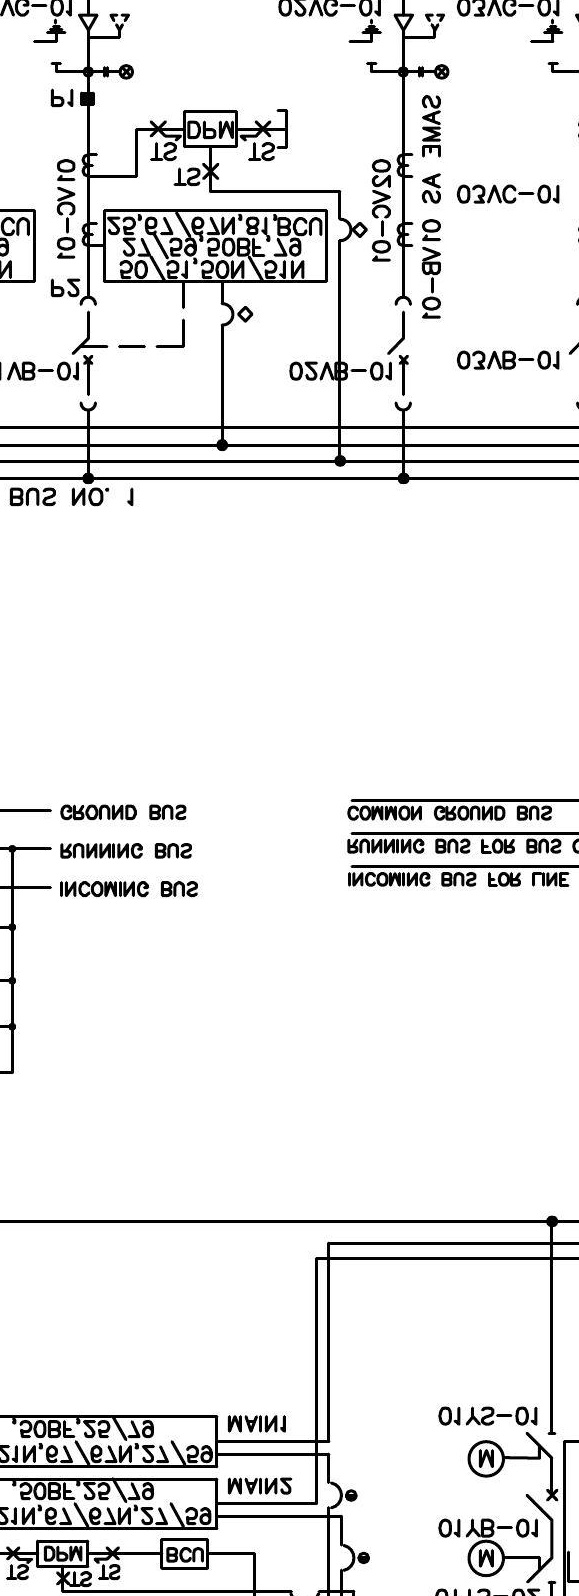115_1way_ds_w_motor: (467, 1431, 558, 1479)
115_breaker: (525, 1489, 559, 1522)
22_breaker: (71, 295, 98, 412), (387, 295, 413, 412)
22_gs: (33, 18, 67, 65), (348, 18, 383, 65), (529, 18, 564, 65)
22_ll: (103, 63, 134, 80), (418, 63, 450, 80)
BCU: (159, 1537, 210, 1571)
DPM: (182, 109, 239, 149), (36, 1539, 90, 1569)
terminator_w_future: (77, 13, 130, 40), (393, 13, 446, 40)
